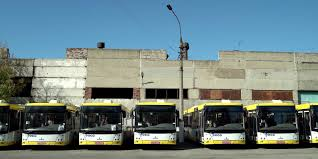bus: (184, 102, 245, 147), (245, 102, 300, 147), (21, 101, 76, 146), (79, 102, 129, 148), (132, 102, 178, 145)
